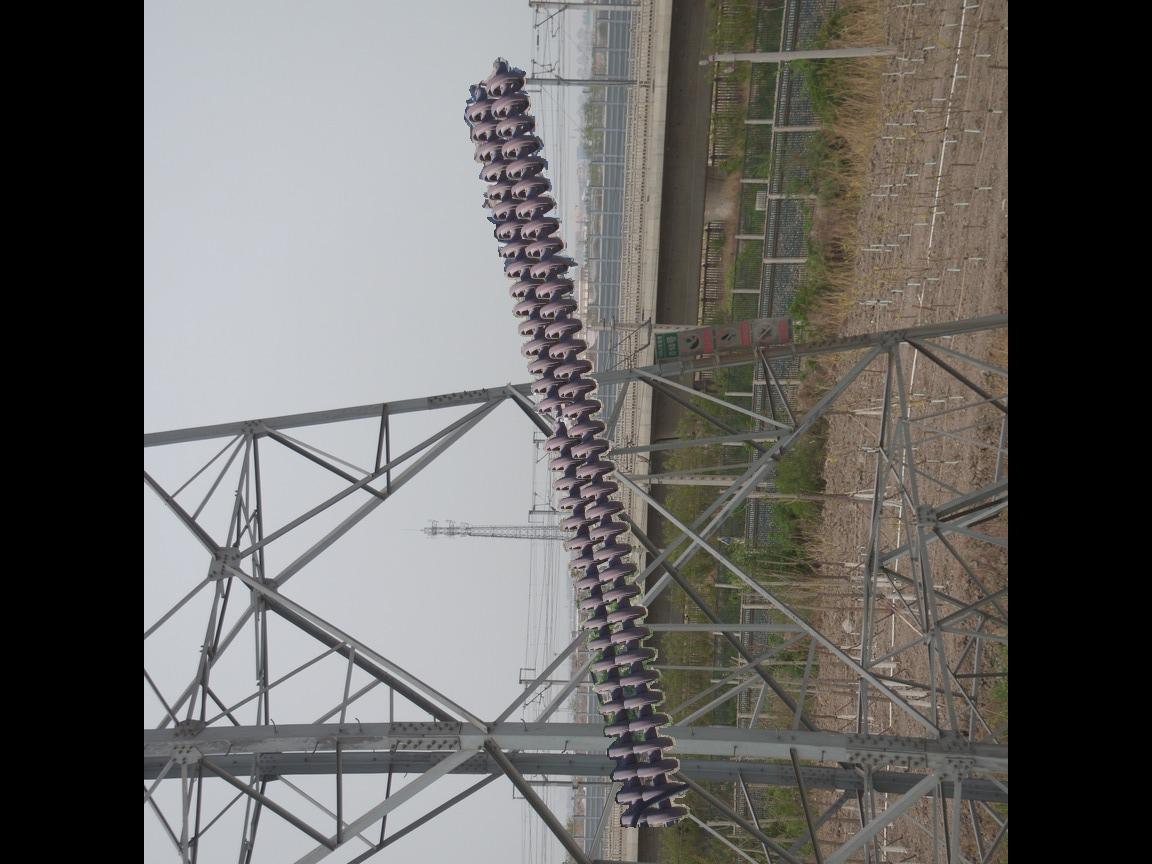insulator: (459, 65, 693, 835)
insulator_stringdrop: (532, 394, 580, 458)
